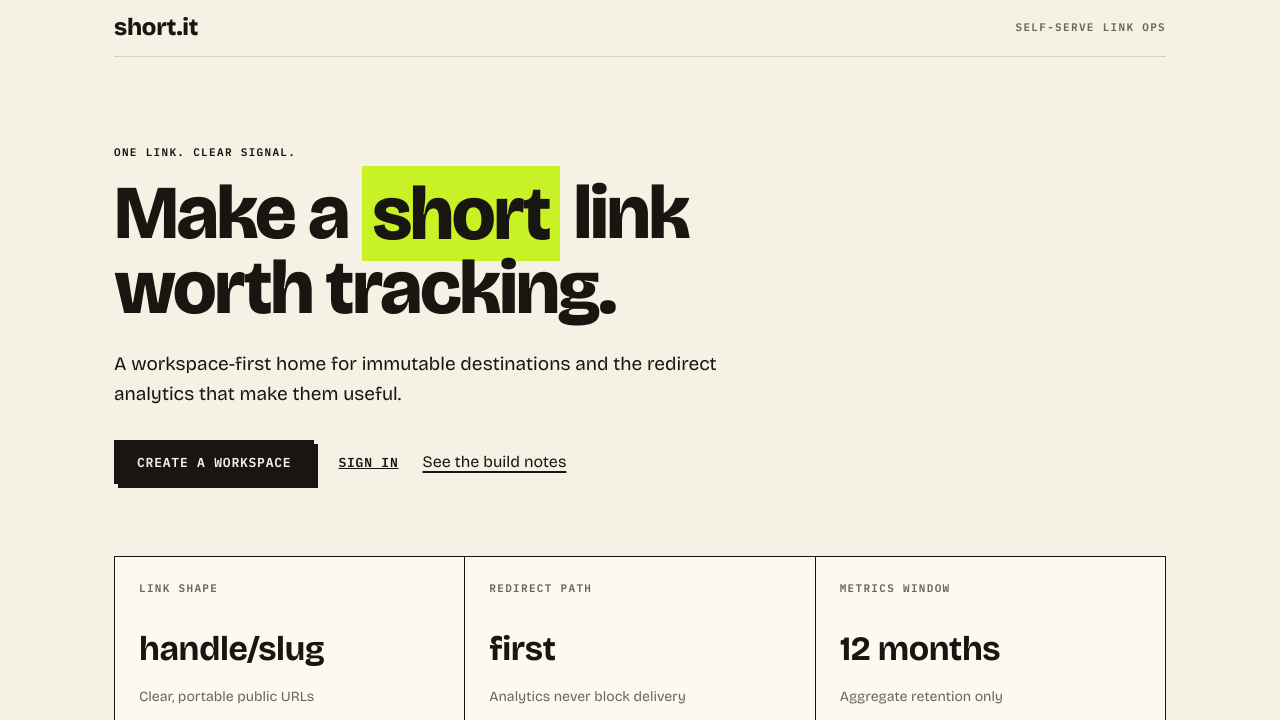
Test: App › signs in a returning workspace member
Click the button "Sign in" at (369, 462), box [338,440,399,484]
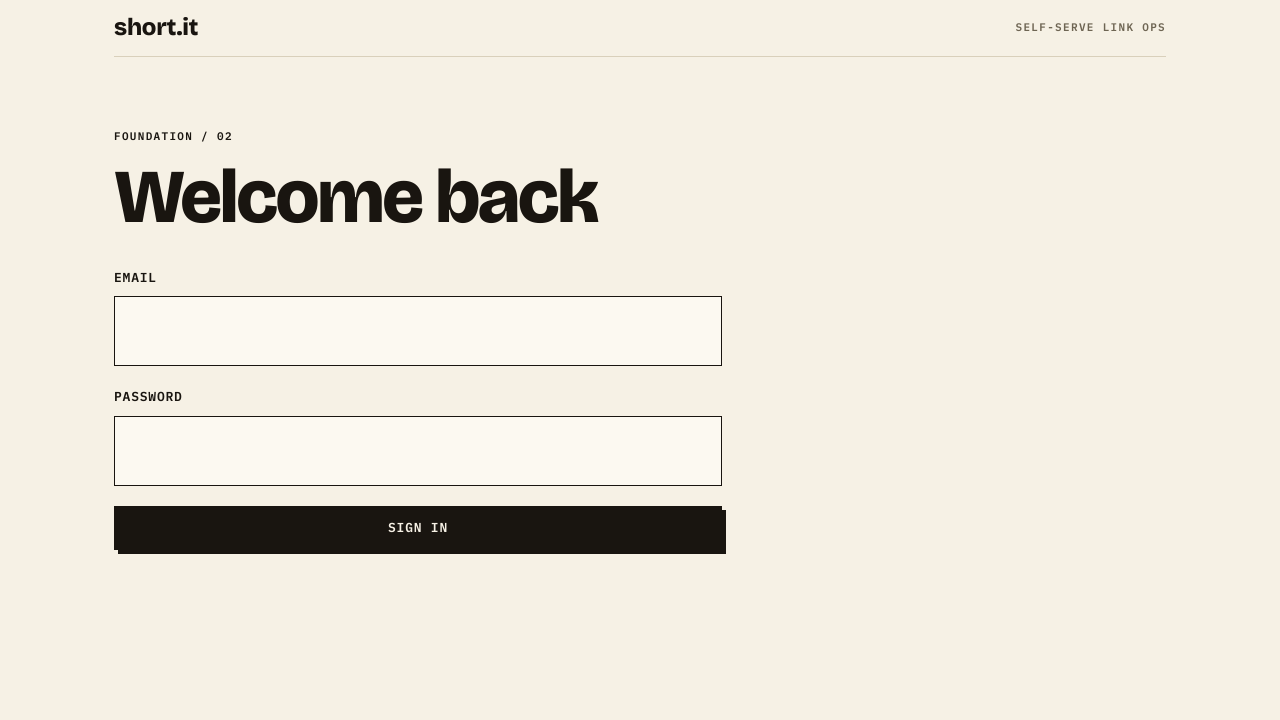
Type "ada@example.test" into the field labelled "Email" at (418, 331), box [114,296,722,366]
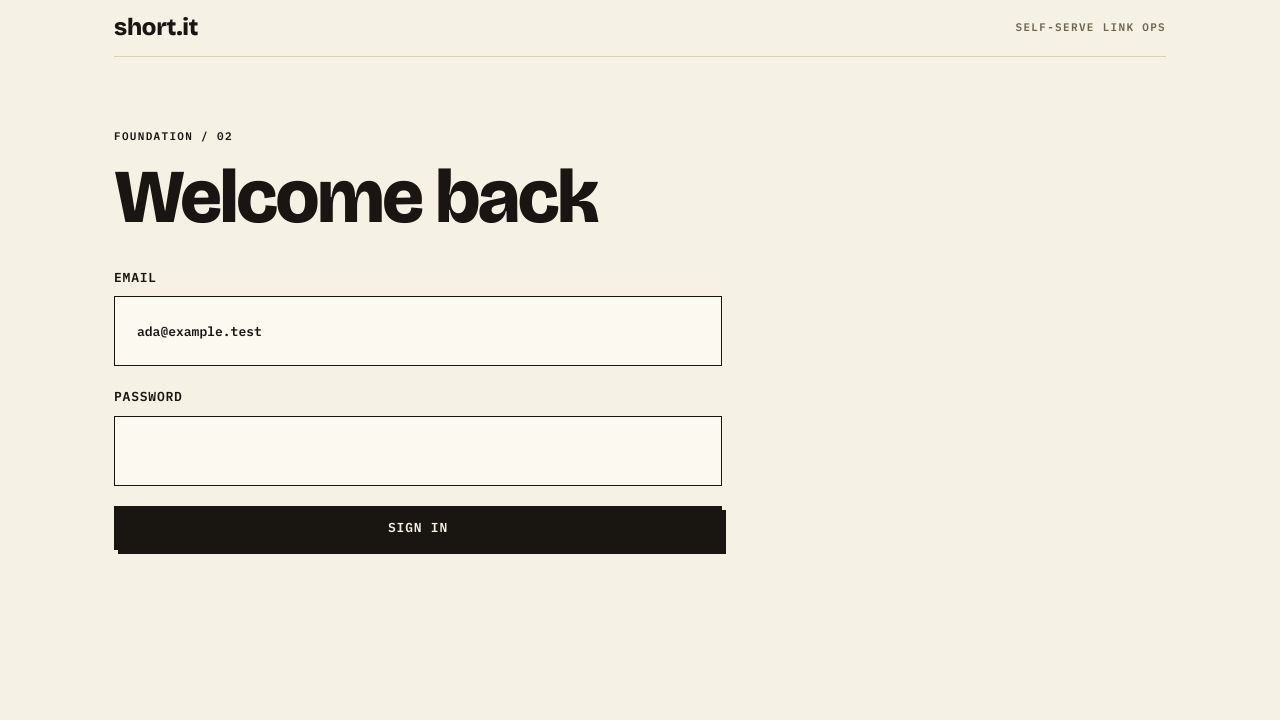
Type "correct-horse-battery-staple" into the password field labelled "Password" at (418, 451), box [114,416,722,486]
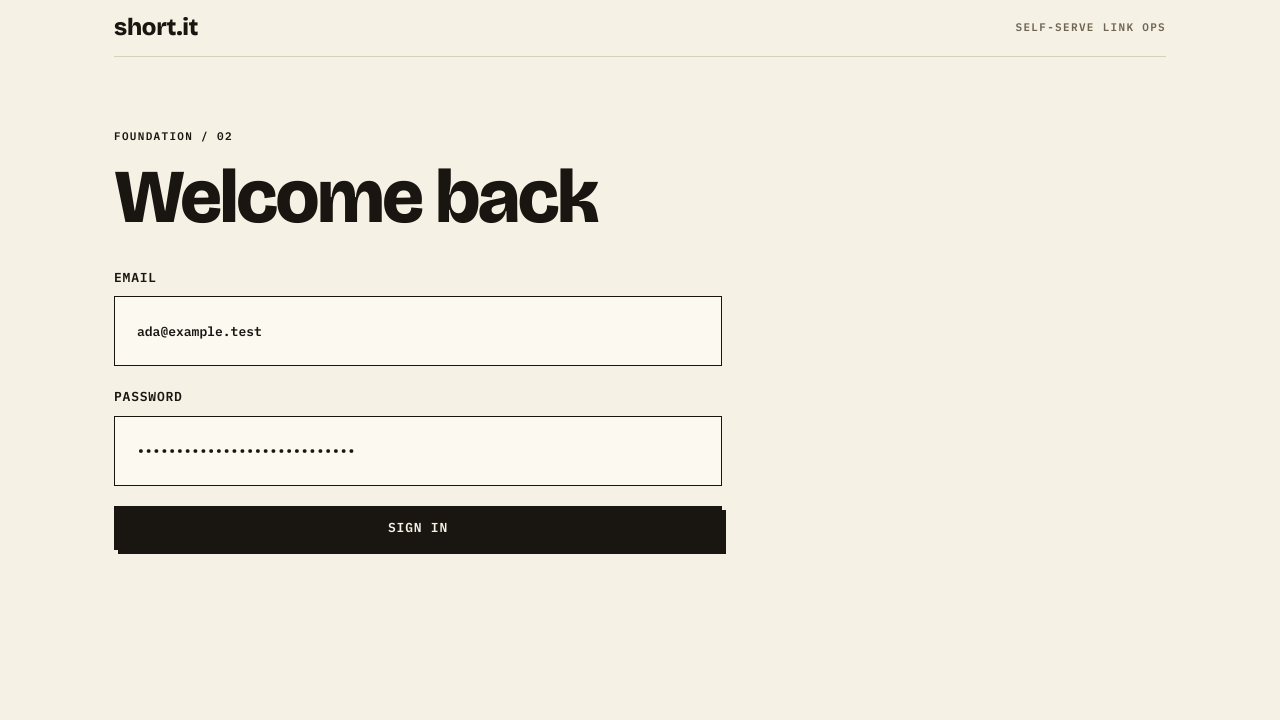
Submit the form "Sign in", box [114,267,722,550]
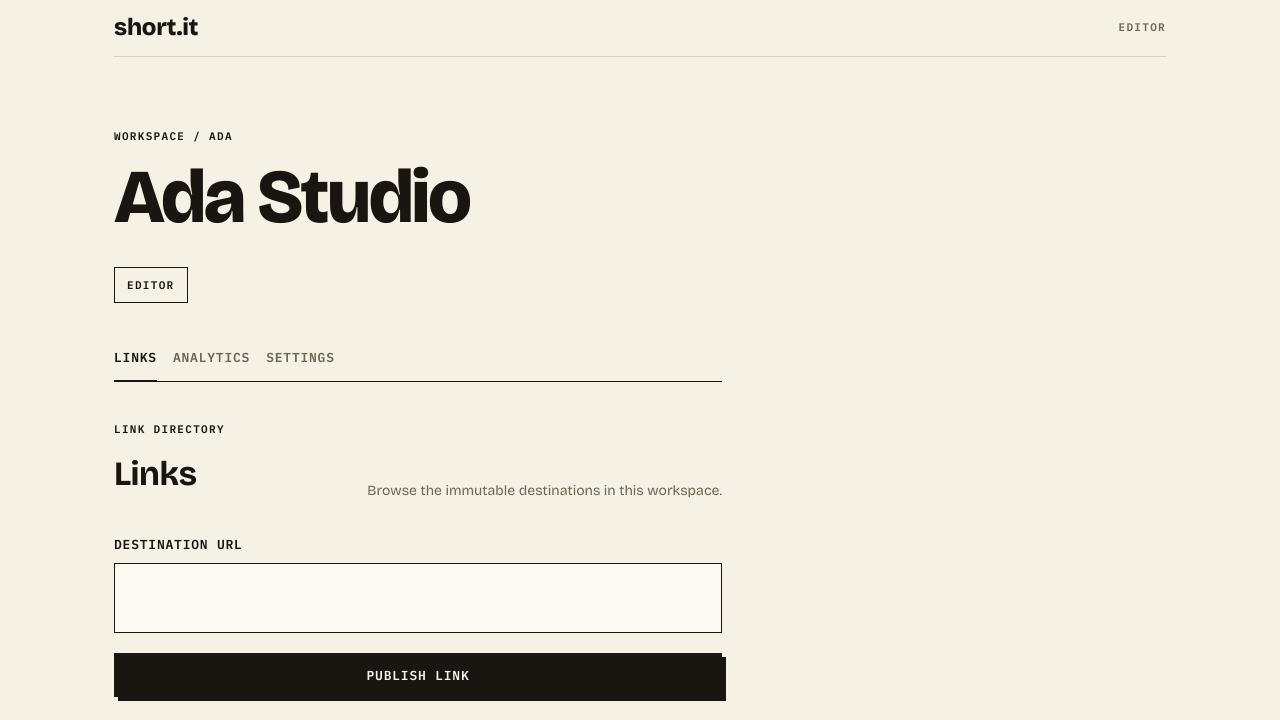
Expected: the heading "Ada Studio" is shown, [114,151,470,243]
